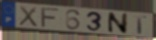3: (85, 11, 106, 33)
6: (65, 9, 81, 31)
F: (40, 7, 62, 29)
N: (107, 11, 129, 35)
T: (132, 15, 148, 35)
X: (18, 5, 39, 28)
